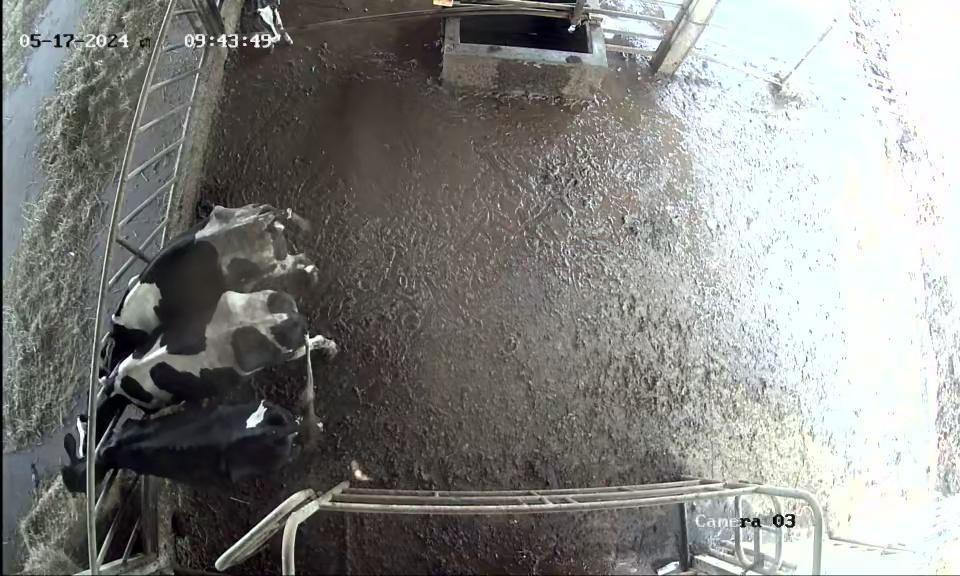eat: (56, 303, 153, 388), (41, 427, 153, 494), (59, 371, 141, 458)
